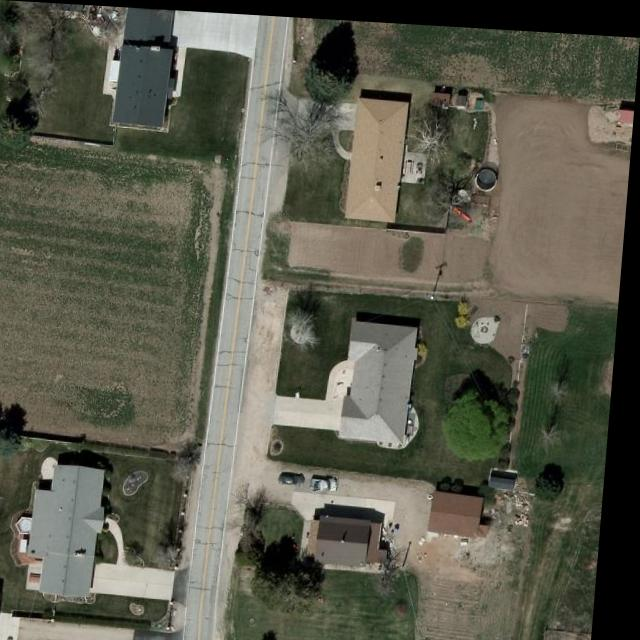vehicle: (319, 473, 348, 490), (286, 469, 313, 484)
